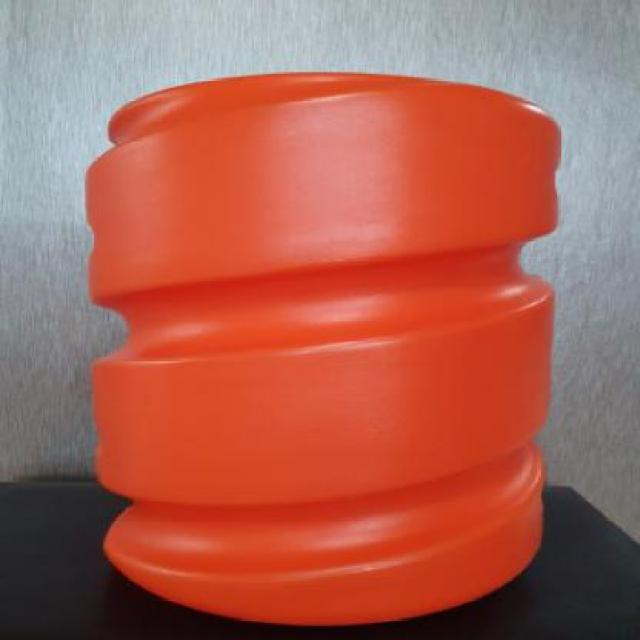a: (76, 76, 592, 362)
